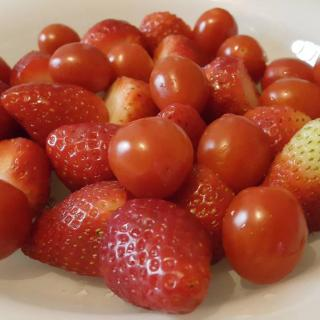tomato: (222, 188, 312, 288), (104, 114, 200, 200), (193, 110, 271, 191), (47, 42, 113, 96), (146, 54, 207, 106), (256, 80, 320, 120), (197, 8, 241, 65), (216, 33, 263, 86), (104, 40, 154, 81), (260, 54, 318, 86), (36, 22, 76, 54)
